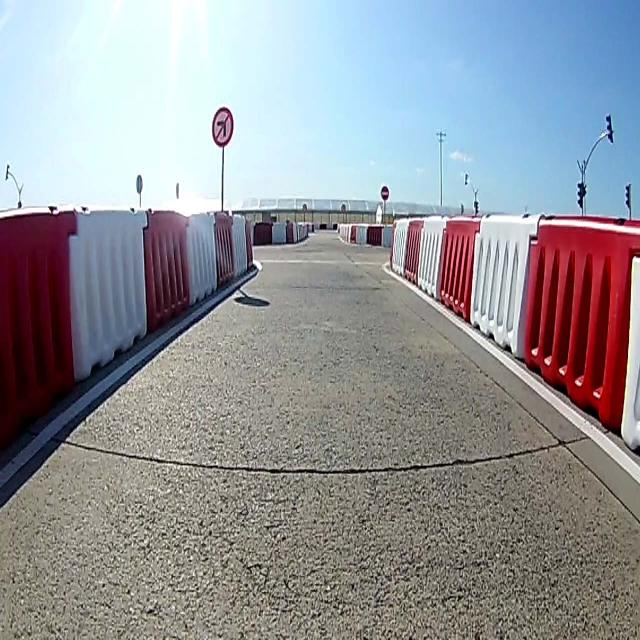girisyok: (381, 184, 389, 202)
soladonulmez: (213, 109, 233, 146)
